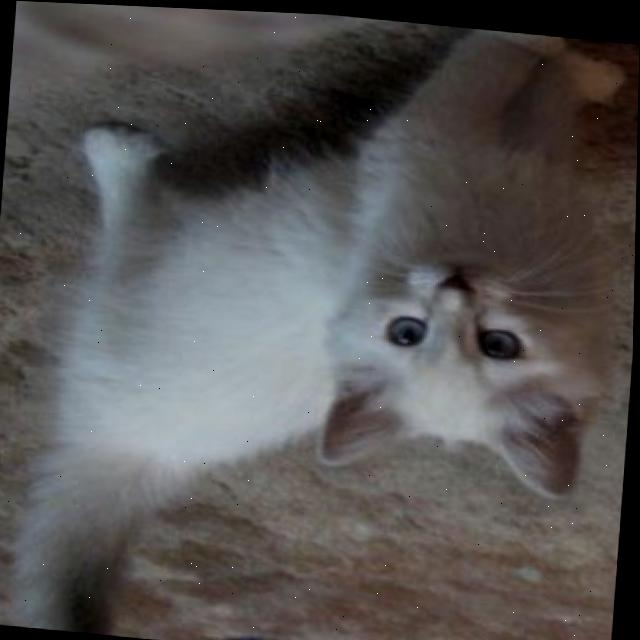Ragdoll: (1, 0, 637, 640)
